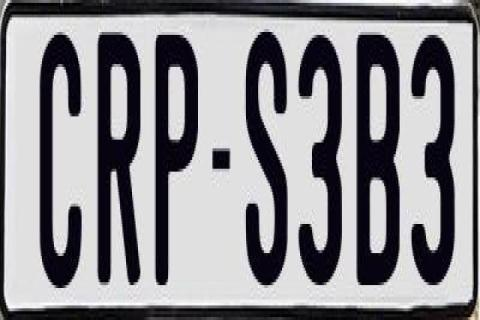0: (298, 26, 348, 288), (408, 32, 454, 300)
B: (354, 29, 404, 288)
C: (37, 32, 85, 300)
P: (154, 32, 202, 282)
R: (96, 24, 142, 282)
S: (246, 23, 288, 276)
